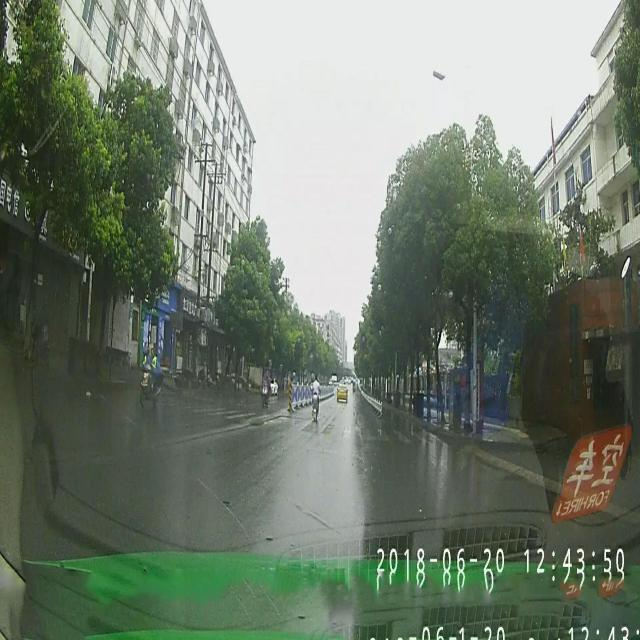car: (336, 378, 347, 404)
